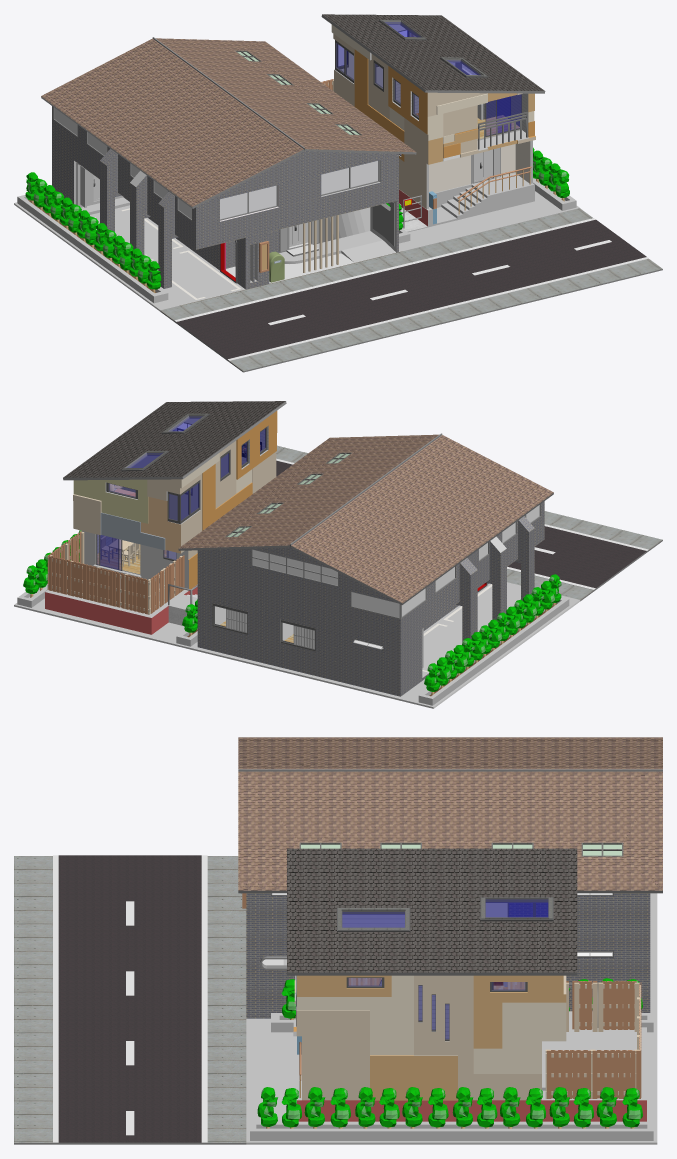
File: Ichijoushi-Street.glb
The picture shows the model from 3 angles, top to bottom: view 1: azimuth 30°, elevation 25°; view 2: azimuth 150°, elevation 25°; view 3: azimuth 270°, elevation 25°; orthographic projection. The views are drawn at different scales.
Visible parts, largest first — view 1: Material2 (×18), Material3 (×6); view 2: Material2 (×20), Material3 (×4); view 3: Material2 (×17), Material3 (×5).
Part boxes in pixels (left/top/right/bottom): Material2 (×18): left=14, top=14, right=662, bottom=372; Material3 (×6): left=31, top=24, right=564, bottom=305; Material2 (×20): left=14, top=401, right=662, bottom=708; Material3 (×4): left=141, top=434, right=553, bottom=696; Material2 (×17): left=14, top=769, right=662, bottom=1144; Material3 (×5): left=238, top=737, right=662, bottom=1128.
Size of the model in its own units: 957 by 312 by 914.
83 materials, 21 textured.
